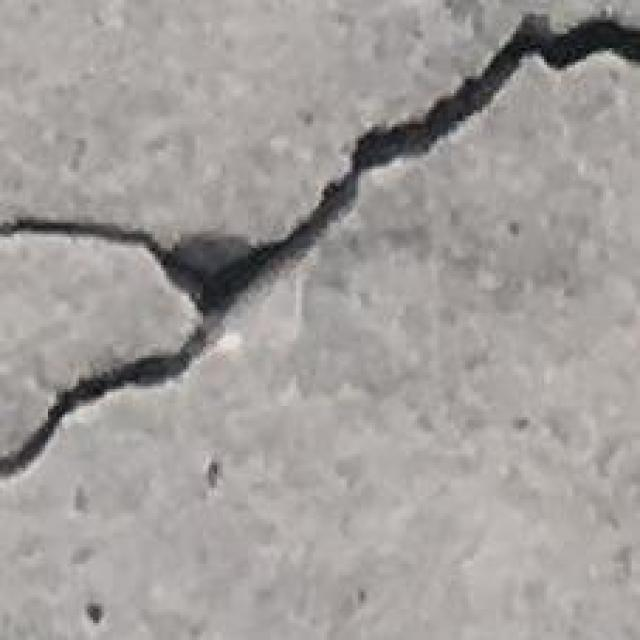Crack: (3, 3, 640, 493)
